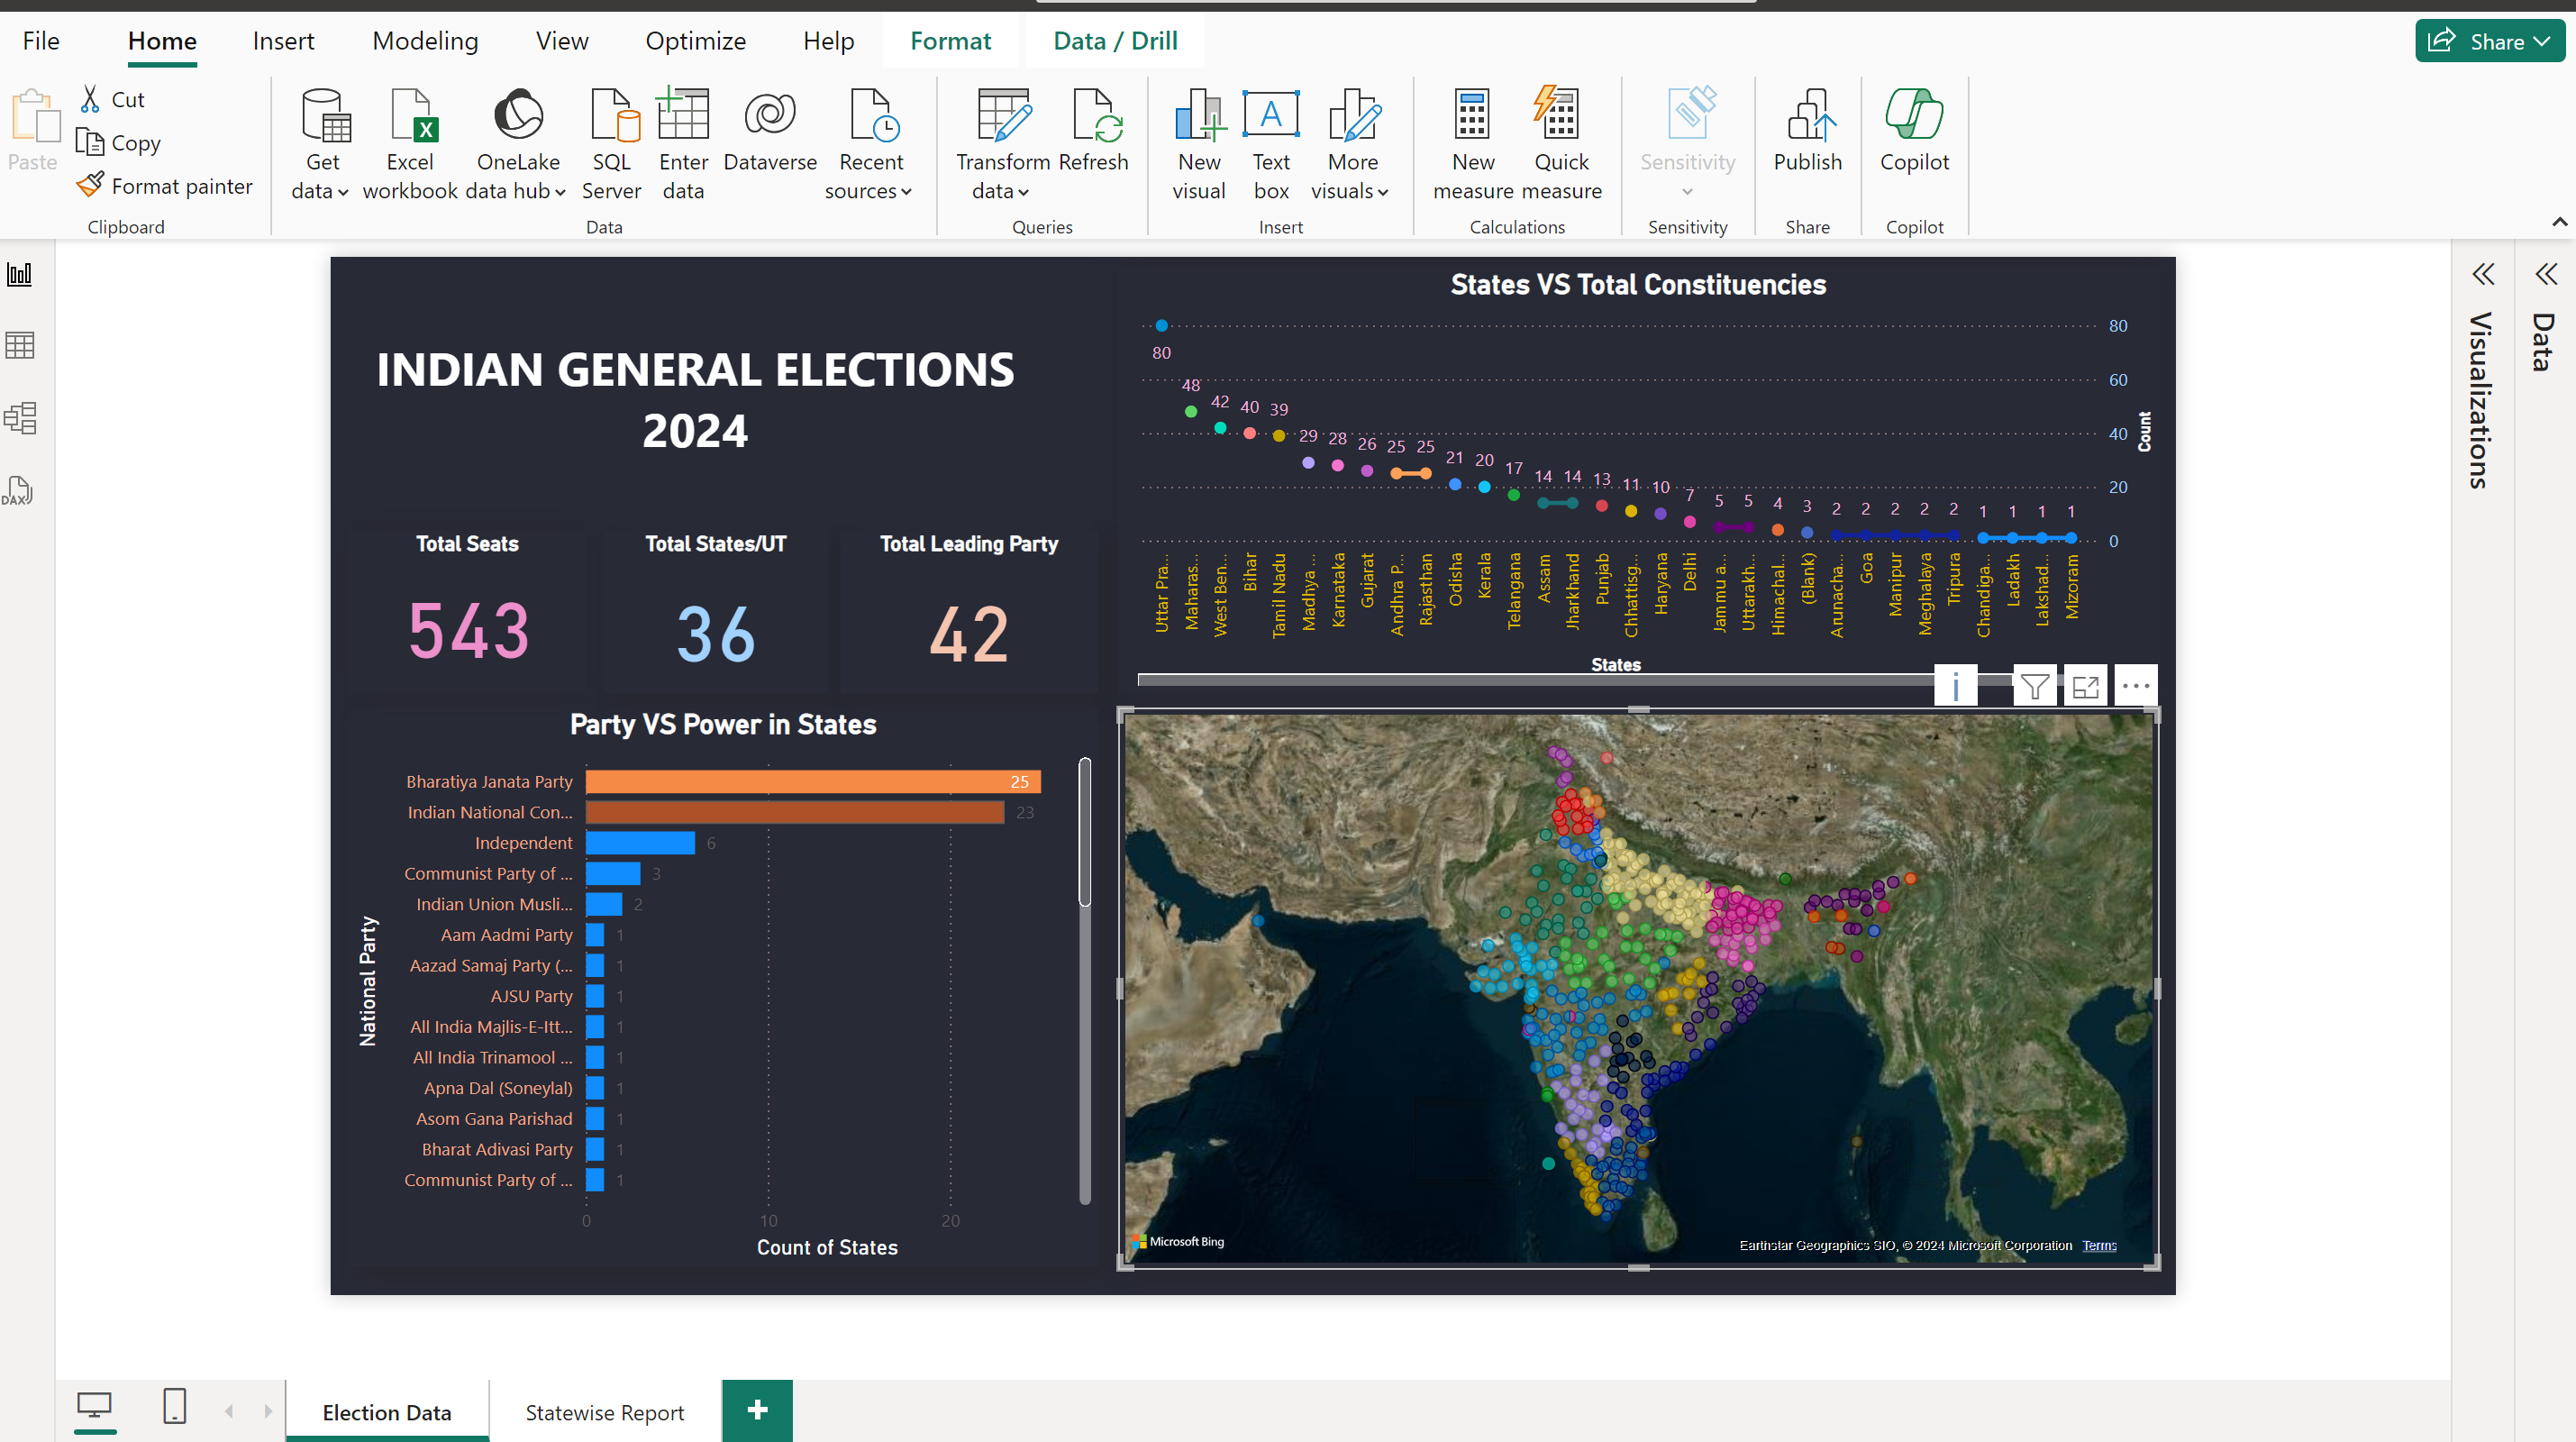

The dashboard page shown, as its layout file describes it:
{"tool":"powerbi","page":{"name":"Election Data","canvas":[1280,720],"ordinal":0},"visuals":[{"type":"barChart","title":"Party VS Power in States","fields":{"Category":["Indian General Elections.Leading Party"],"Y":["Count(Indian General Elections.State/UT)"]},"box":[12.5,312.5,520,387.5],"z":0},{"type":"card","title":"Total Seats","fields":{"Values":["CountNonNull(Indian General Elections.Constituency)"]},"box":[12.5,190,165,112.5],"z":1000},{"type":"textbox","box":[12.5,50,481.2,103.8],"z":2000},{"type":"map","fields":{"Category":["Indian General Elections.Constituency"],"Y":["CountNonNull(Indian General Elections.State/UT)"],"Series":["Sheet1.States"]},"box":[546.2,312.5,722.5,390],"z":3000},{"type":"card","title":"Total States/UT","fields":{"Values":["Count(Indian General Elections.State/UT)"]},"box":[190,190,155,112.5],"z":4000},{"type":"lineChart","title":"States VS Total Constituencies","fields":{"Category":["Sheet1.States"],"Series":["Sheet1.Total Constituencies"],"Y":["Count(Indian General Elections.Constituency)"]},"box":[546.2,7.5,722.5,295],"z":5000},{"type":"card","title":"Total Leading Party","fields":{"Values":["Count(Indian General Elections.Leading Party)"]},"box":[353.8,190,178.8,112.5],"z":6000}]}

Visuals, with their boxes on the page's 1280x720 design canvas (x1, y1, x2, y2). These are canvas units, not pixel positions in the 2576x1442 screenshot, which may show the page scaled, cropped or inside an application window:
"Party VS Power in States" barChart: 12,312,532,700
"Total Seats" card: 12,190,178,302
textbox: 12,50,494,154
map - Indian General Elections.Constituency x CountNonNull(Indian General Elections.State/UT): 546,312,1269,702
"Total States/UT" card: 190,190,345,302
"States VS Total Constituencies" lineChart: 546,8,1269,302
"Total Leading Party" card: 354,190,533,302
